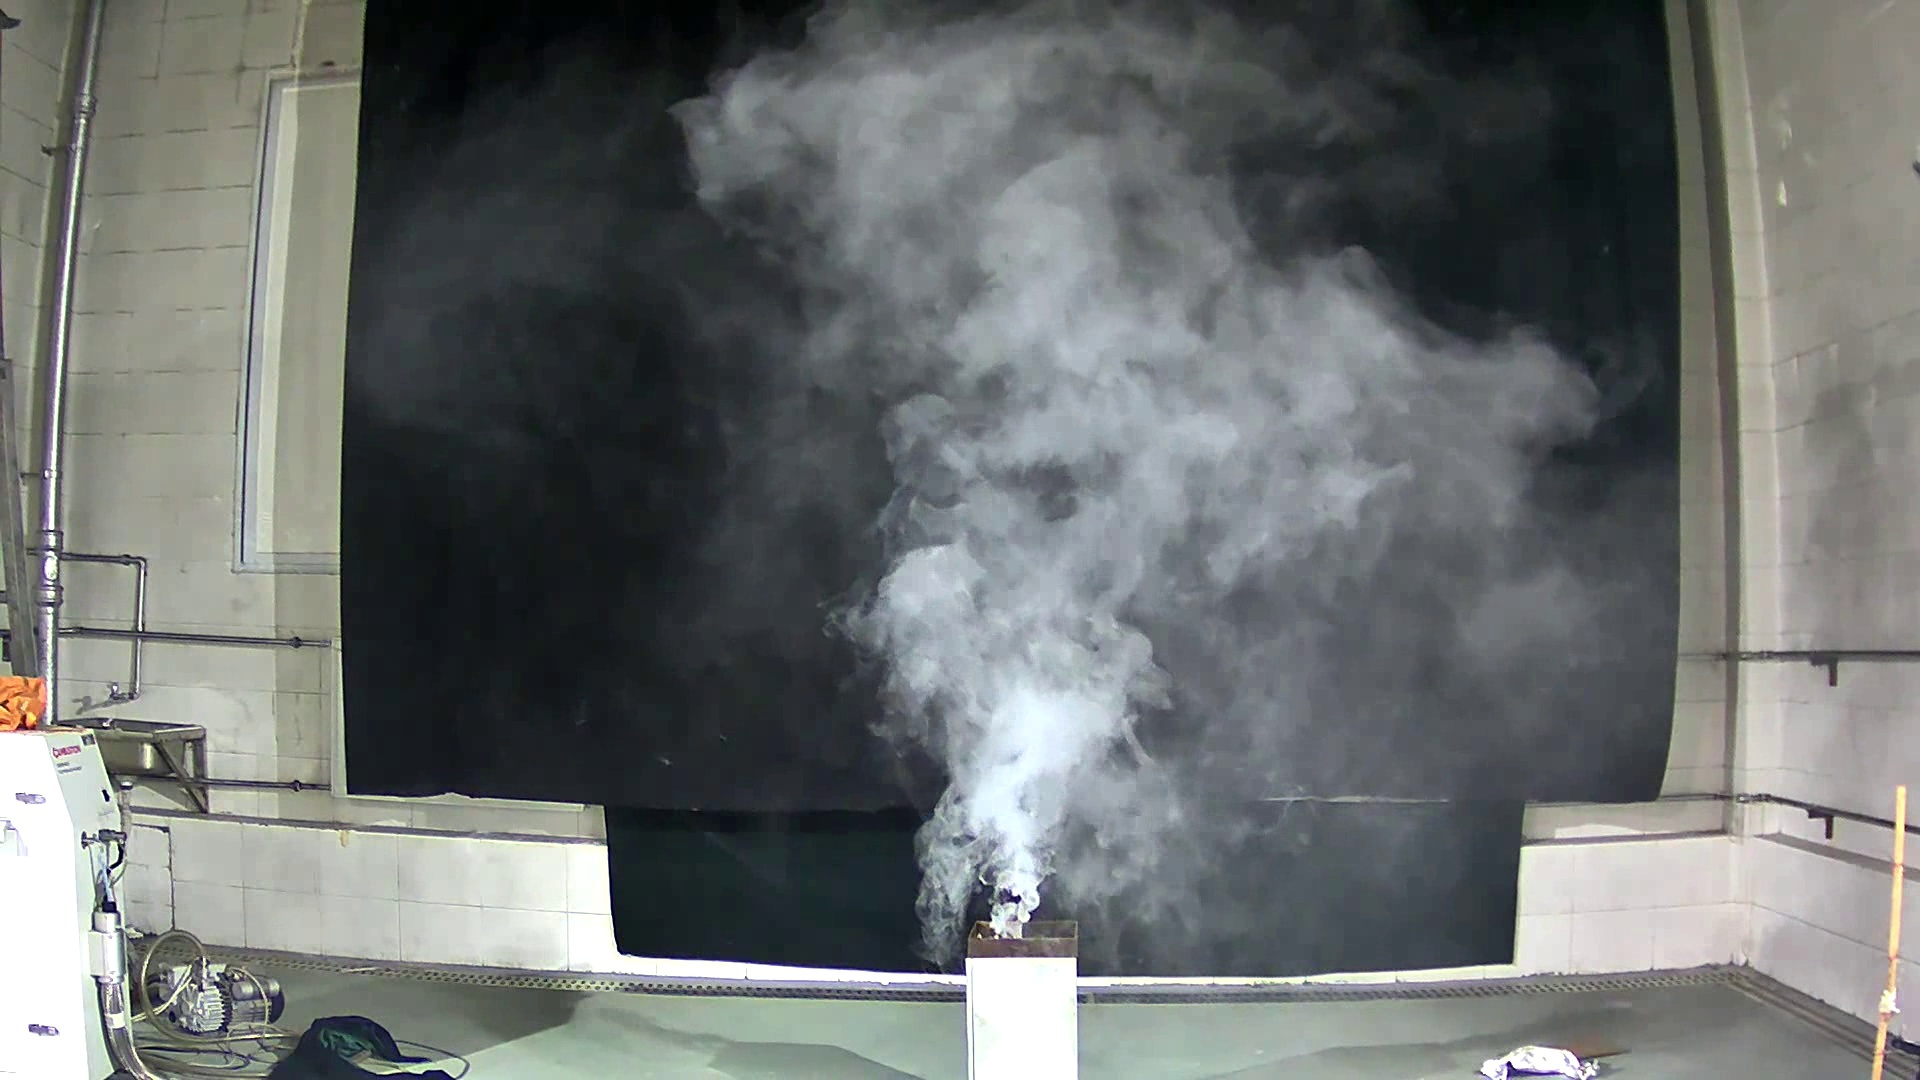smoke: (688, 38, 1490, 942)
